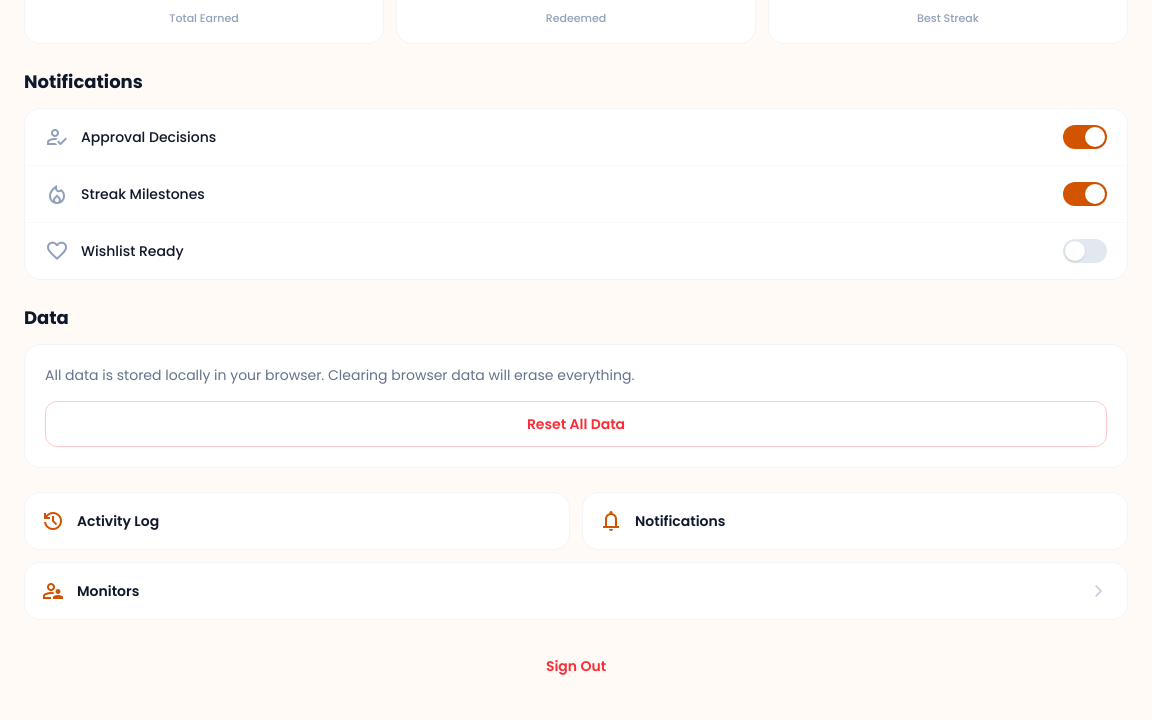
Scenario: Me (Profile) › shows reset confirmation
(page scrolled)
Click the button "Reset All Data" at (576, 424), box [45,400,1107,446]
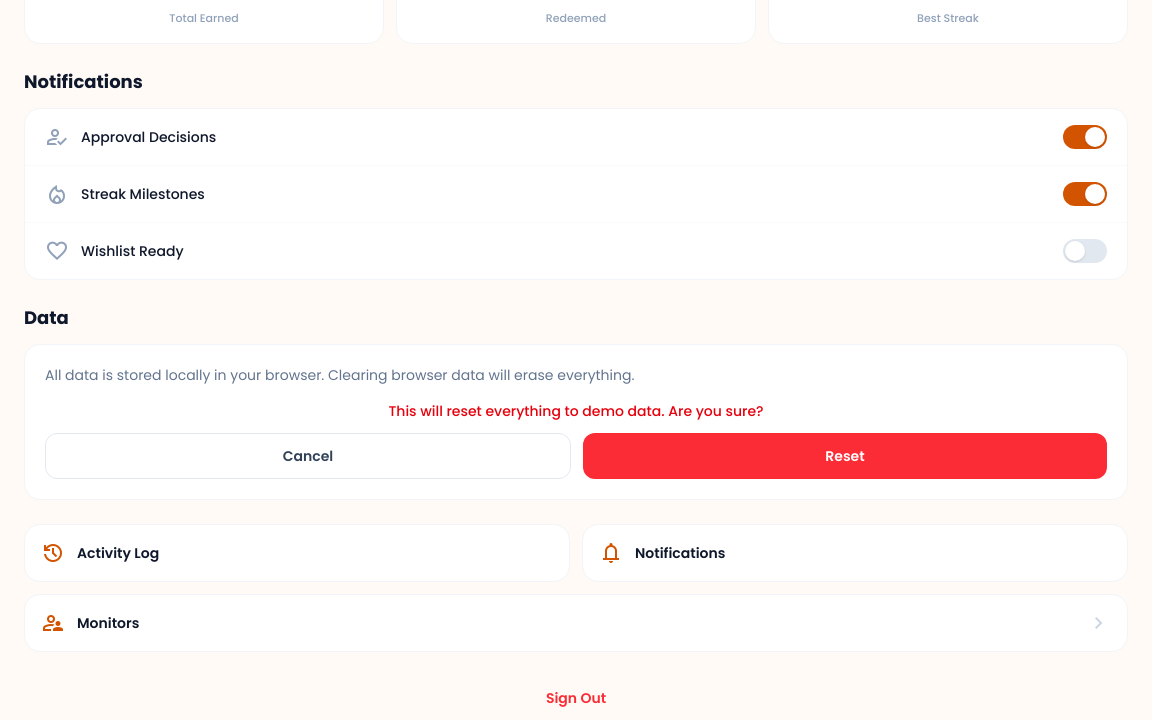
expect the text "This will reset everything to demo data. Are you sure?" is shown: met, box [388,400,764,420]
